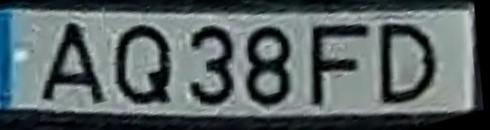3: (184, 19, 239, 110)
8: (242, 21, 296, 110)
A: (36, 18, 109, 106)
D: (377, 21, 439, 108)
F: (308, 21, 371, 112)
Q: (110, 18, 174, 108)
